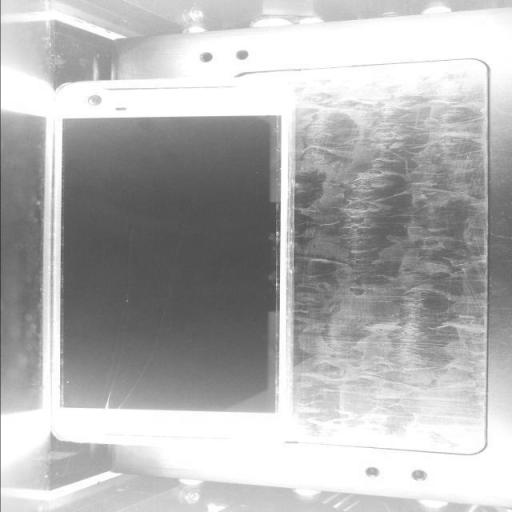phone: (44, 84, 303, 439)
